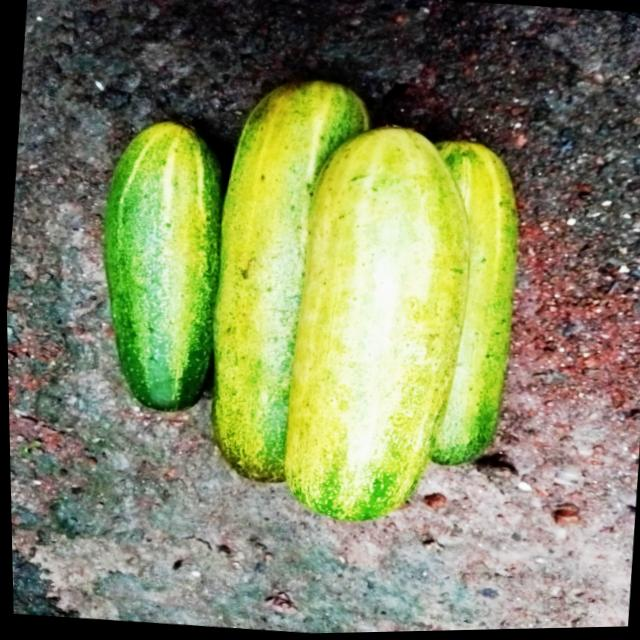Fresh-Cucumber: (273, 117, 486, 531), (193, 72, 380, 499), (84, 117, 232, 422), (408, 140, 530, 479)
